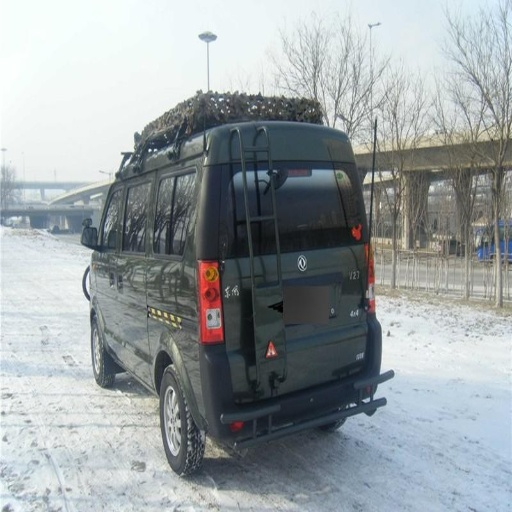trunk: (120, 168, 362, 388)
